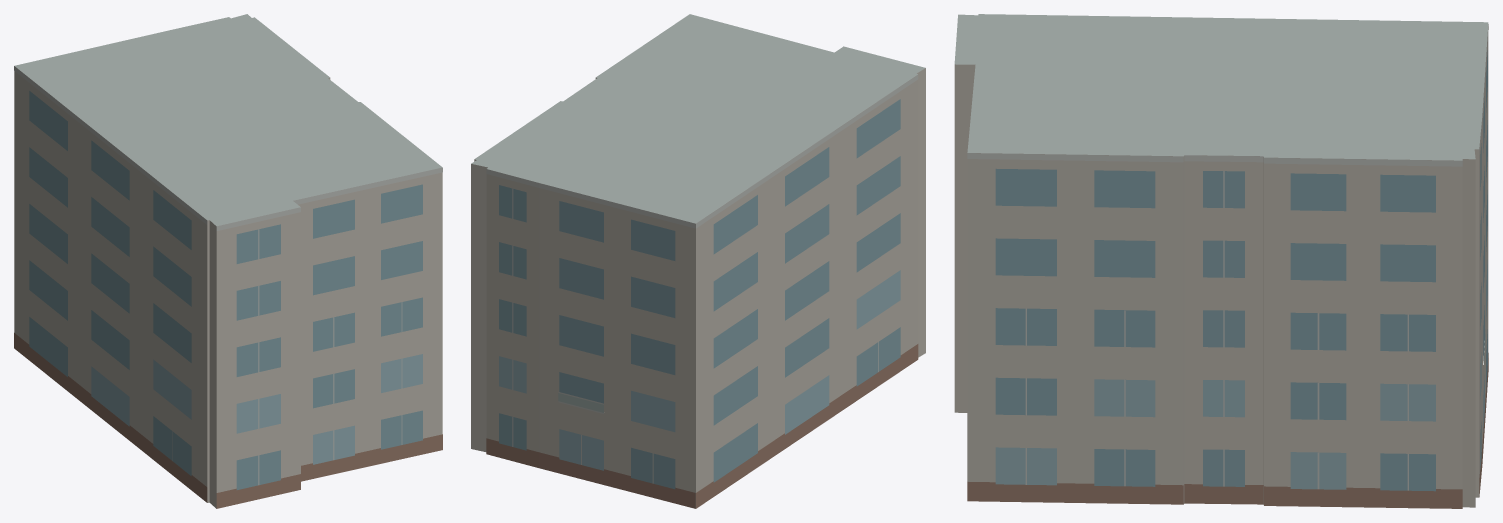
File: survey-upis-32841469.glb
3 renders of one model, left to right at view 1: azimuth 30°, elevation 25°; view 2: azimuth 150°, elevation 25°; view 3: azimuth 270°, elevation 25°, orthographic. The views are drawn at different scales.
Parts seen in each view (by area): view 1: survey-upis-32841469.tmp; view 2: survey-upis-32841469.tmp; view 3: survey-upis-32841469.tmp.
Boxes of the visible parts, box(x1,y1,x2,y2) form: survey-upis-32841469.tmp: box(14, 14, 442, 508); survey-upis-32841469.tmp: box(471, 14, 925, 508); survey-upis-32841469.tmp: box(954, 14, 1488, 508).
Bounding box in the file's own units: 12.65 × 14 × 19.46.
